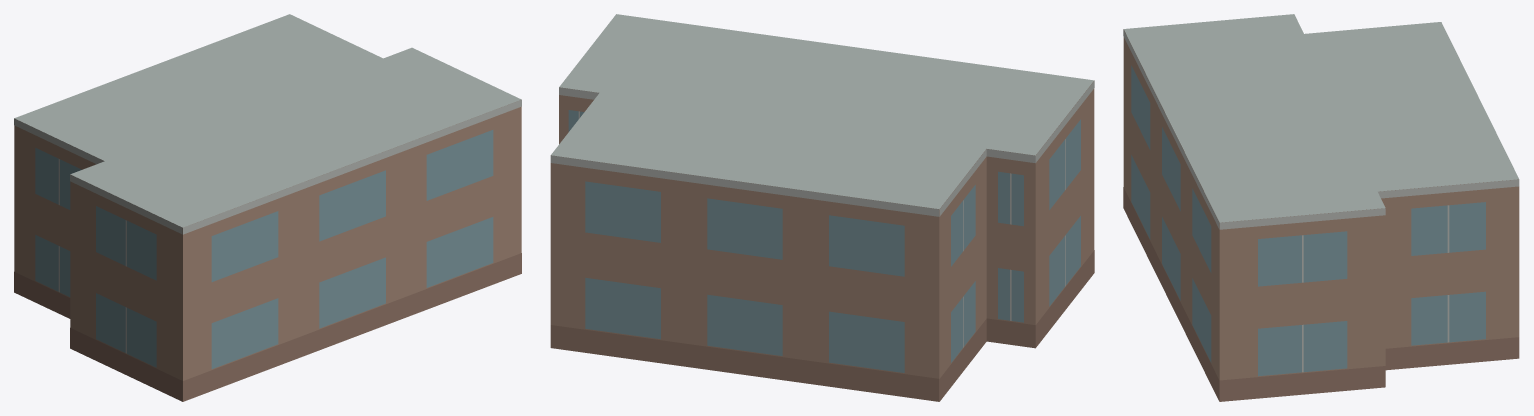
File: survey-upis-32909356.glb
3 renders of one model, left to right at view 1: azimuth 30°, elevation 25°; view 2: azimuth 150°, elevation 25°; view 3: azimuth 270°, elevation 25°, orthographic. The views are drawn at different scales.
Visible parts, largest first — view 1: survey-upis-32909356.tmp; view 2: survey-upis-32909356.tmp; view 3: survey-upis-32909356.tmp.
Boxes of the visible parts, x1,y1,x2,y2 form: survey-upis-32909356.tmp: [14, 14, 521, 401]; survey-upis-32909356.tmp: [550, 14, 1094, 401]; survey-upis-32909356.tmp: [1123, 14, 1519, 401].
Size of the model in its own units: 15.23 by 6.1 by 12.22.
